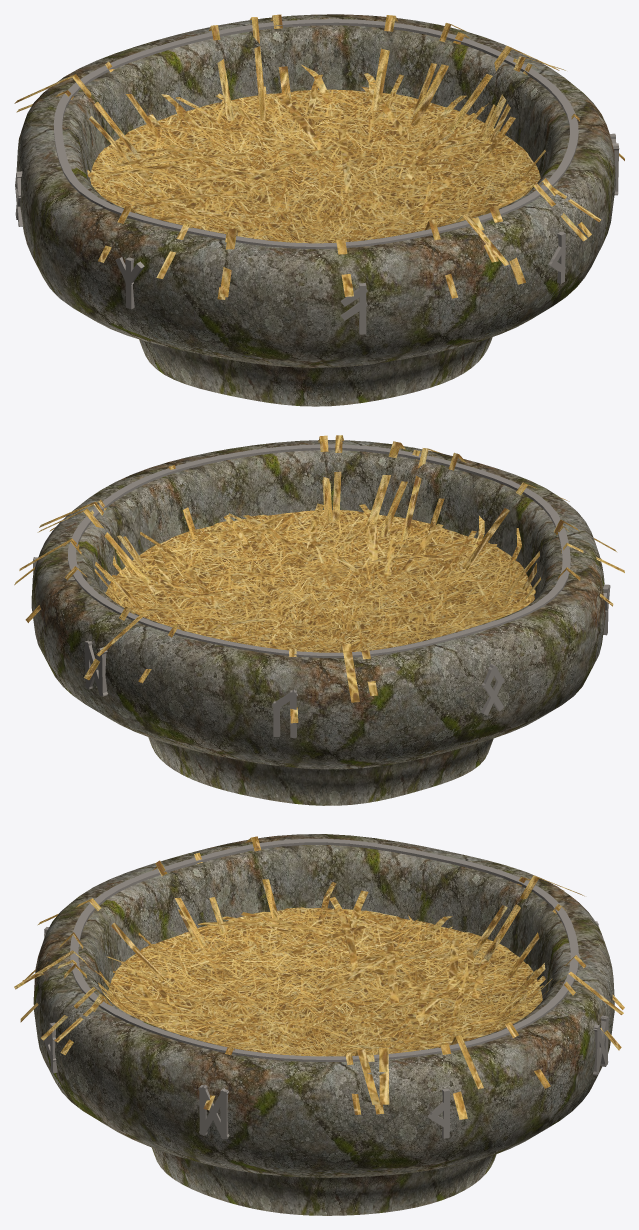
The model's file is incubator.glb.
3 views of the same model, one above another, from view 1: azimuth 30°, elevation 25°; view 2: azimuth 150°, elevation 25°; view 3: azimuth 270°, elevation 25° (orthographic). The views are drawn at different scales.
Visible parts, largest first — view 1: Bowl, Straw, Runes; view 2: Bowl, Straw, Runes; view 3: Bowl, Straw, Runes.
Part boxes in pixels (x1,y1,x2,y2): Bowl: (16,14,615,406); Straw: (14,14,624,299); Runes: (15,19,619,334); Bowl: (31,440,605,805); Straw: (14,435,624,723); Runes: (33,444,610,737); Bowl: (33,834,614,1215); Straw: (14,836,624,1119); Runes: (44,838,608,1139).
Bounding box in the file's own units: 5.09 × 1.85 × 5.06.
Materials: 3 (2 with a texture image).
